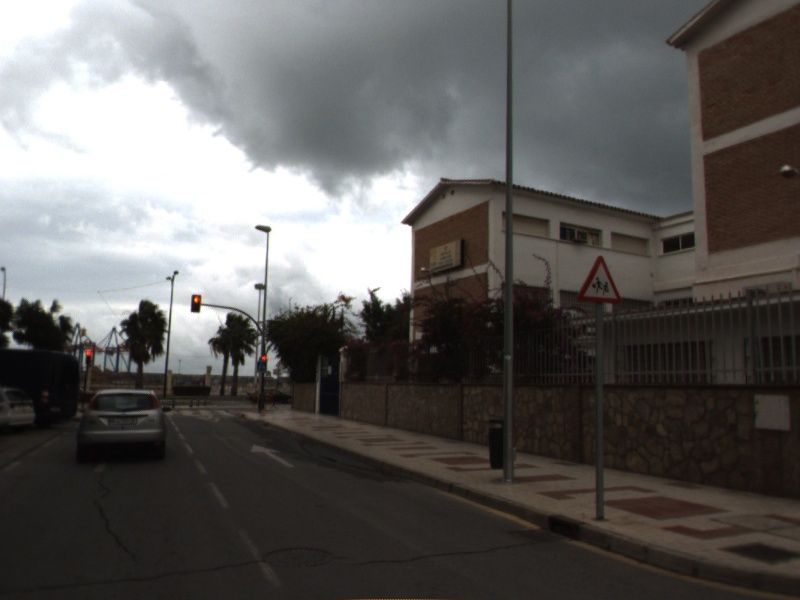STRAIGHT: (249, 442, 297, 470)
